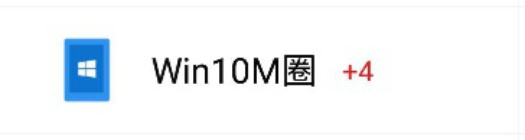CheckedTextView: (1, 1, 524, 139)
